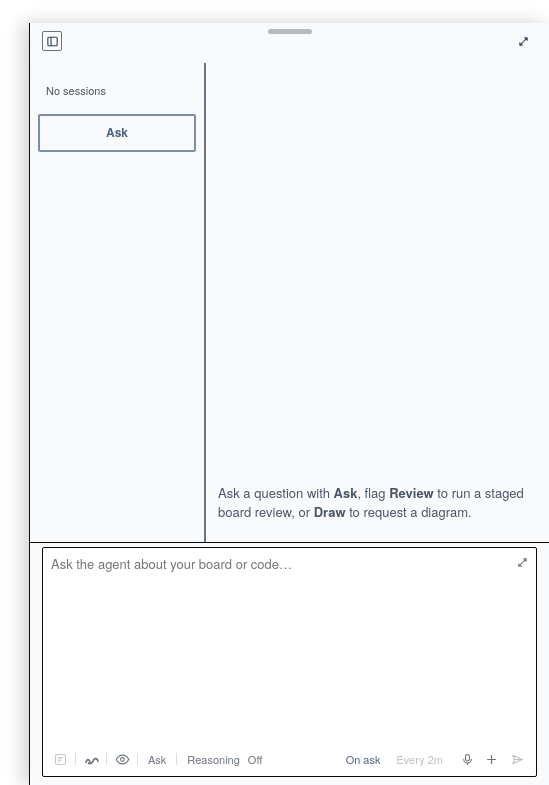
stops and transcribes once at the recording limit and explains why
The image size is (549, 785).
Click the button named "Voice" at (467, 759), box [457, 749, 477, 769]
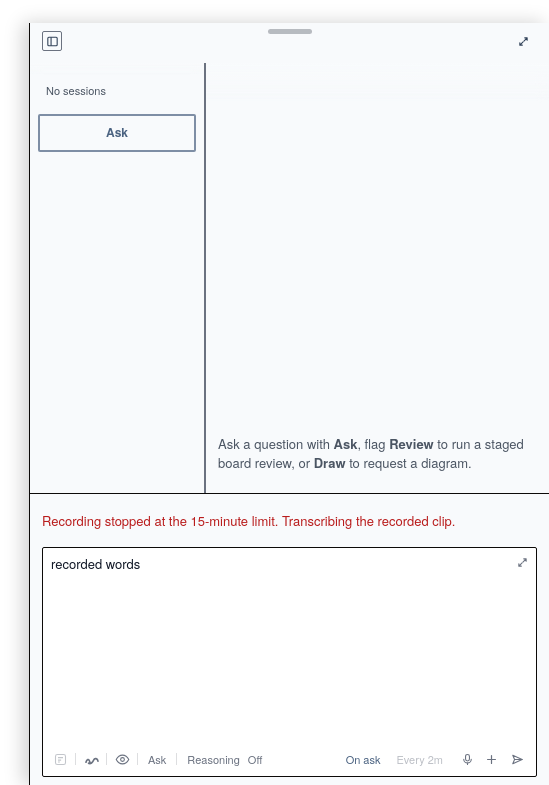
Now the text "15-minute limit" is shown, box [42, 511, 455, 530]
Now the text box holds "recorded words", box [43, 548, 536, 748]
